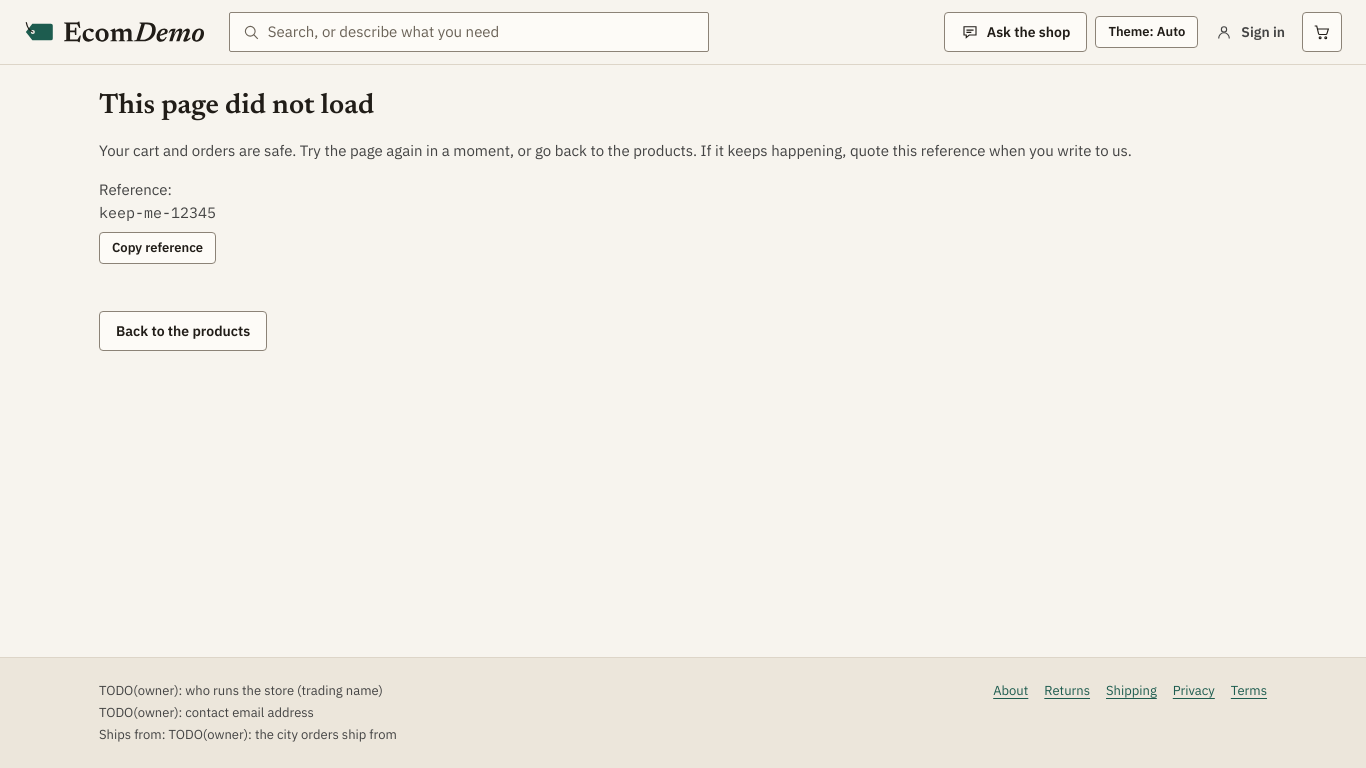
it: the reference › says so when the browser will not copy, and keeps the text
What coordinates should you click on to do the following:
click the button "Copy reference"
I would click on:
 (158, 248)
Its box is [99, 232, 216, 264].
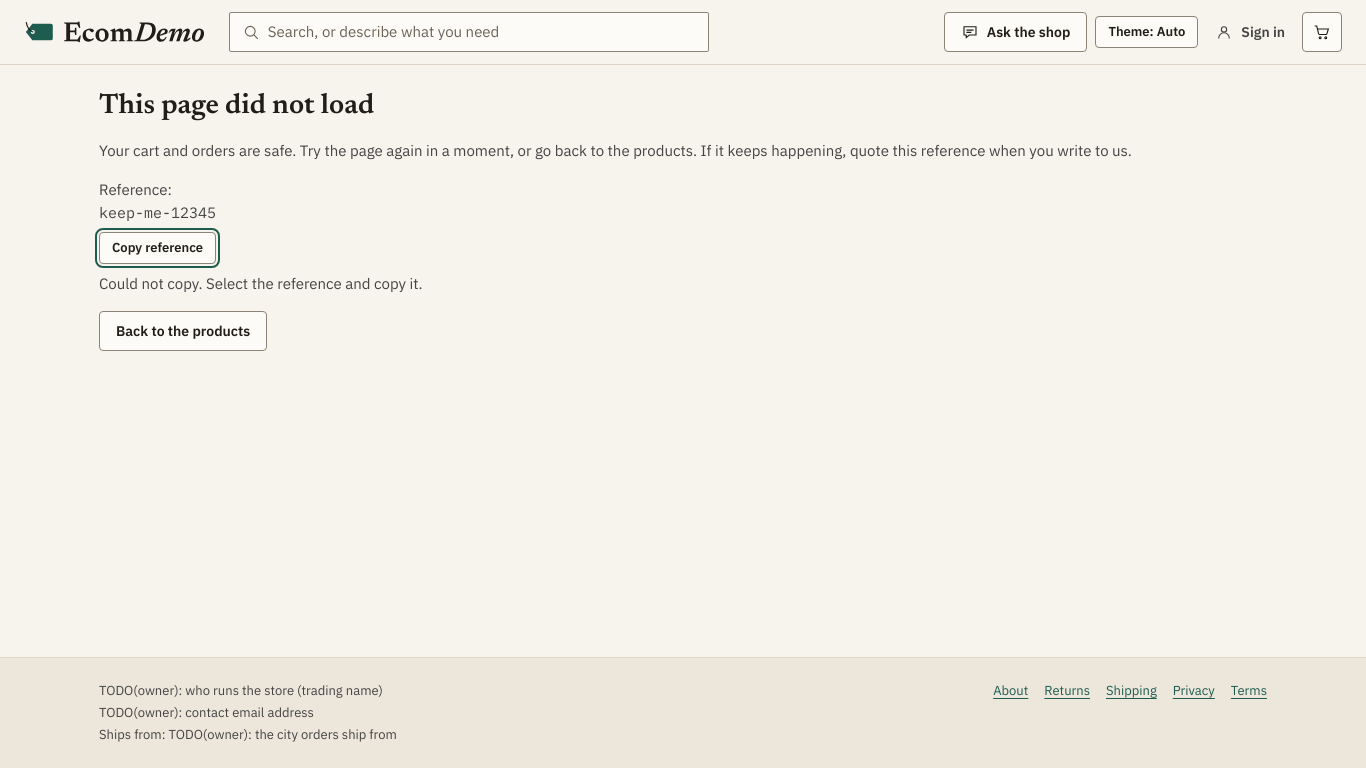
Expected: the text "keep-me-12345" is shown, [99, 203, 216, 222]
Now the text "Could not copy. Select the reference and copy it." is shown, box [99, 272, 423, 295]
